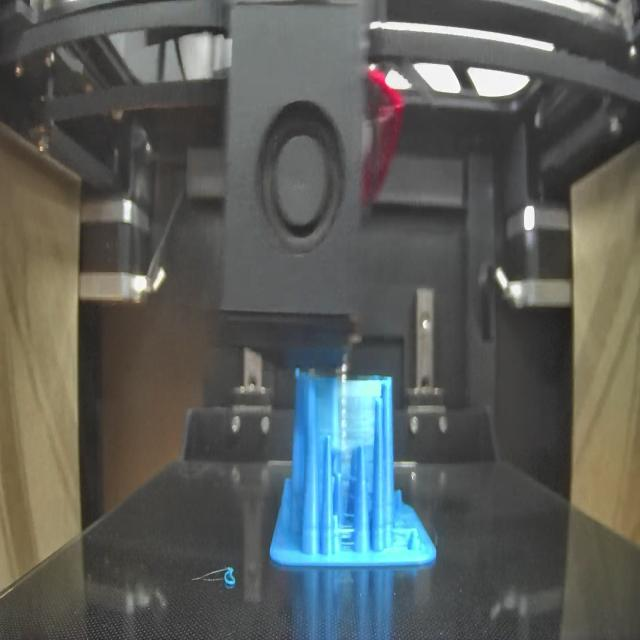stringing: (315, 378, 380, 452), (333, 458, 357, 558)
